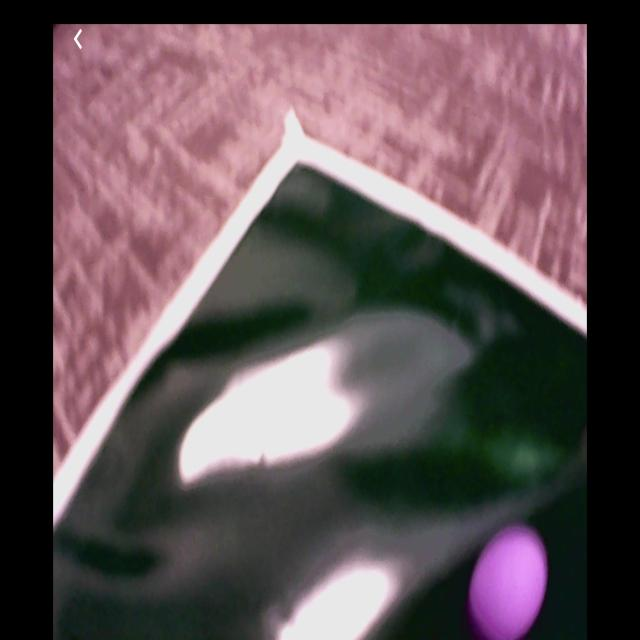ball: (473, 530, 547, 640)
